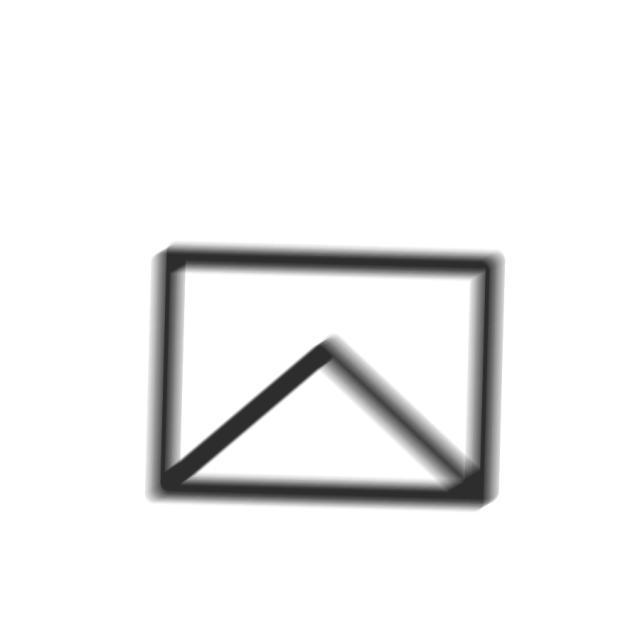letter: (144, 242, 508, 514)
